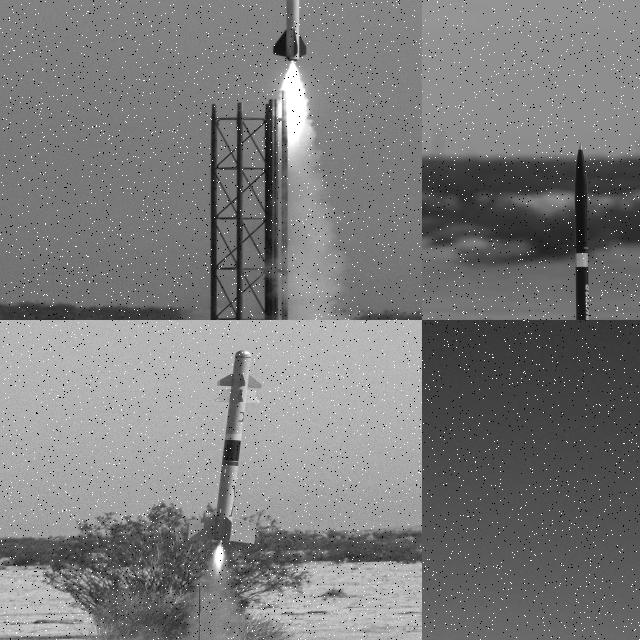Rocket: (187, 348, 263, 545), (562, 141, 601, 320), (271, 0, 308, 63)
